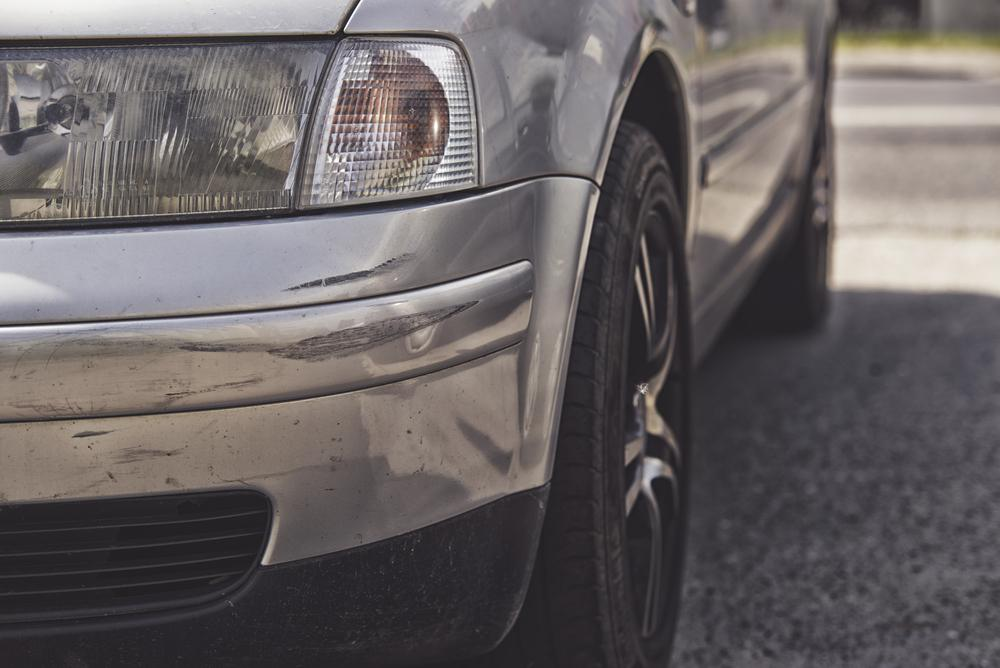scratch: (0, 299, 480, 416), (51, 427, 201, 500), (278, 251, 424, 295)
